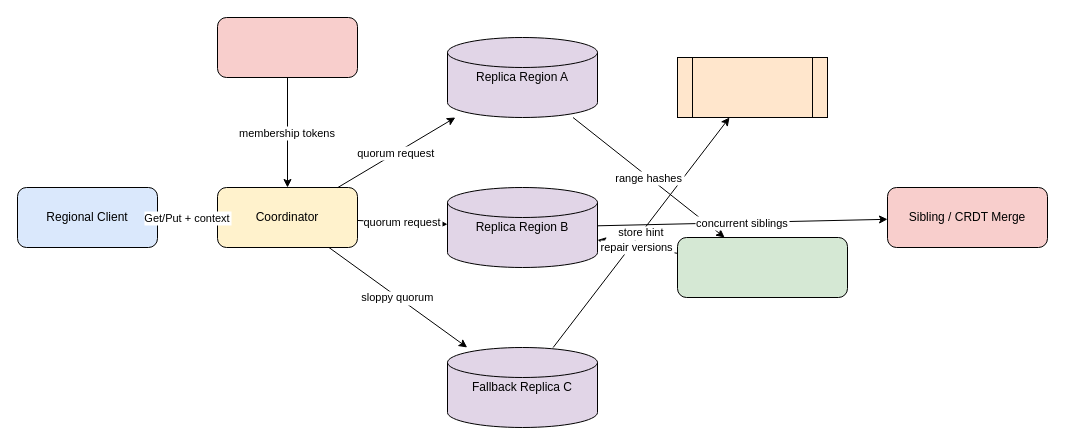
The diagram is 1065 pixels wide and 445 high, and some of its shapes have lost their labels. Here are the shapes that lost their labels. From the top down, the box of each, then its label:
(216, 16, 358, 78): Gossip Ring
(676, 56, 828, 118): Hinted Handoff
(676, 236, 848, 298): Merkle Anti-Entropy
